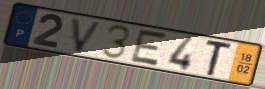2: (30, 13, 66, 51)
3: (101, 23, 133, 61)
4: (165, 35, 194, 72)
E: (128, 27, 171, 68)
T: (204, 39, 235, 78)
V: (70, 17, 105, 55)
